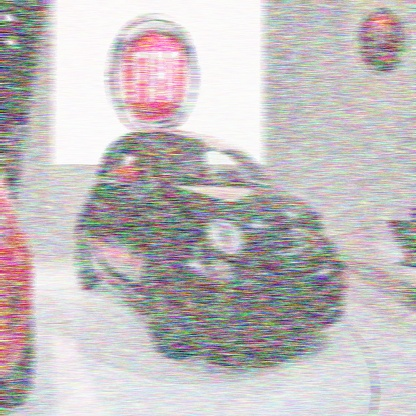Vehicle: (75, 118, 349, 367)
